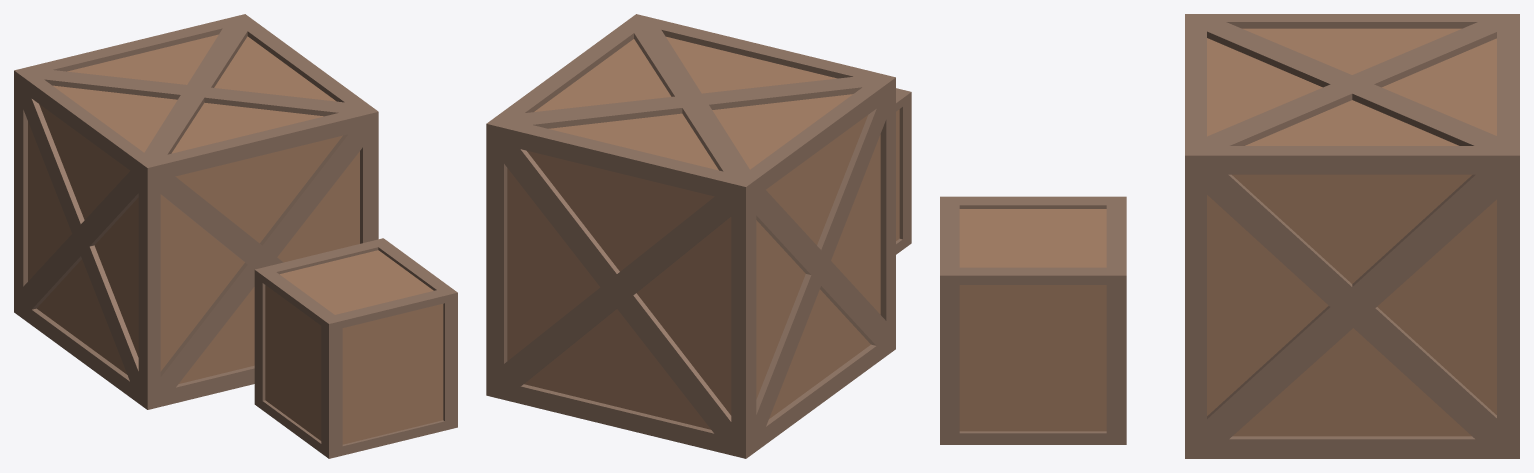
File: boxes.fbx
3 views of the same model, side by side, from view 1: azimuth 30°, elevation 25°; view 2: azimuth 150°, elevation 25°; view 3: azimuth 270°, elevation 25° (orthographic). The views are drawn at different scales.
Parts seen in each view (by area): view 1: pCube1, pCube2; view 2: pCube1, pCube2; view 3: pCube1, pCube2.
Boxes of the visible parts, bbox=[...] form: pCube1: bbox=[14, 14, 378, 409]; pCube2: bbox=[254, 238, 457, 458]; pCube1: bbox=[486, 14, 895, 458]; pCube2: bbox=[896, 88, 911, 254]; pCube1: bbox=[1185, 14, 1519, 458]; pCube2: bbox=[940, 196, 1126, 444].
Bounding box in the file's own units: 2.82 × 2.82 × 4.88.
